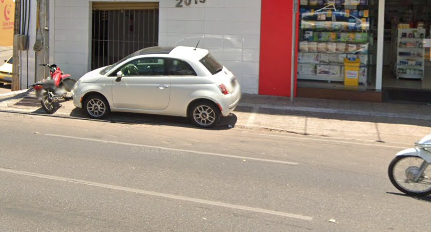car: (71, 37, 243, 138)
